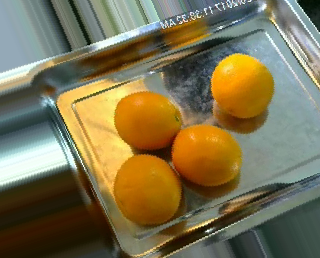Orange: (113, 152, 181, 226), (172, 122, 243, 186), (210, 52, 276, 118), (112, 89, 183, 149)
